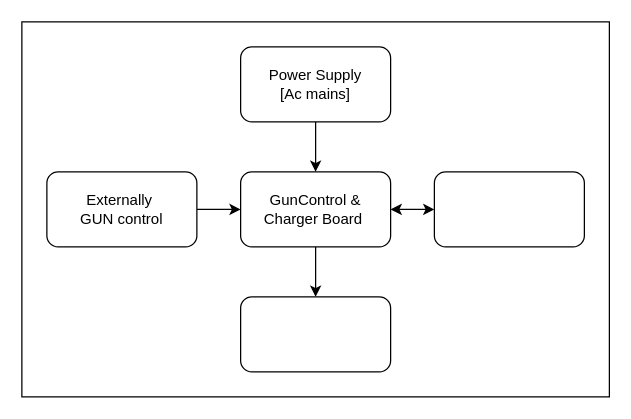
The diagram is 631 pixels wide and 419 high, and some of its shapes have lost their labels. Here are the shapes that lost their labels. From the top down, the centre of each, then its label:
At point (508, 209): "Battery".
At point (315, 334): "Solenoids".
